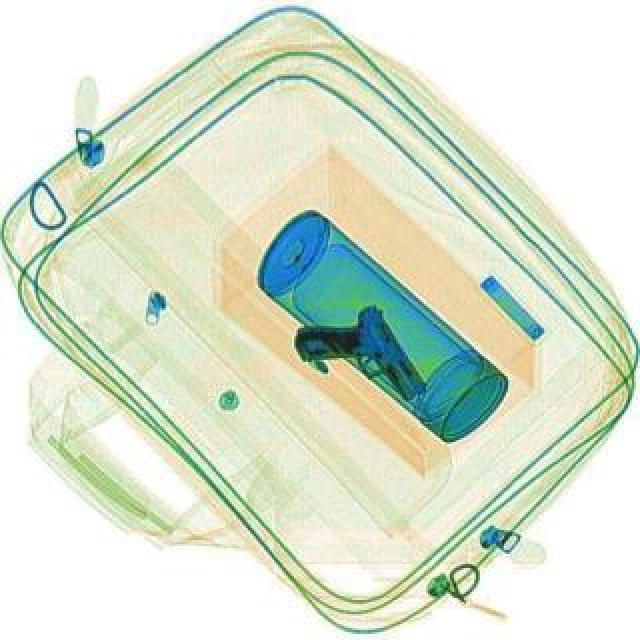gun: (284, 290, 428, 432)
